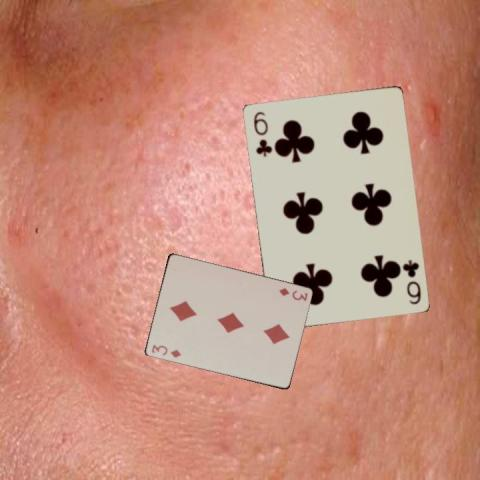3d: (148, 342, 183, 359), (275, 285, 309, 302)
6c: (399, 257, 422, 306), (250, 108, 272, 158)
